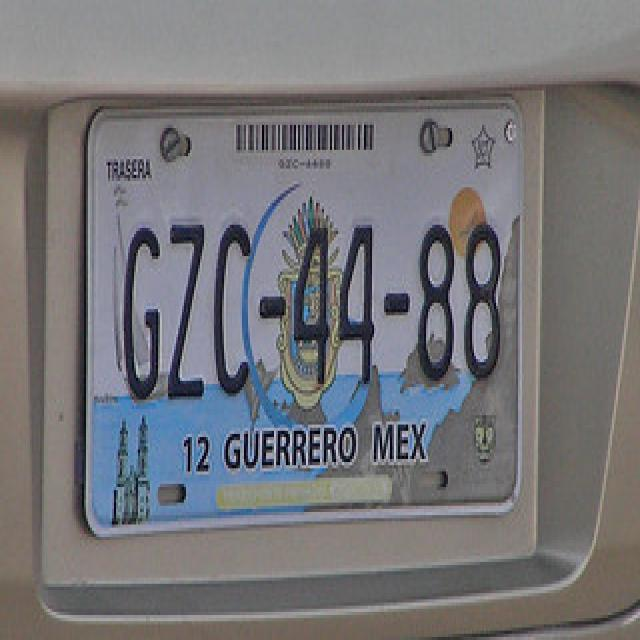placa: (93, 194, 522, 396)
